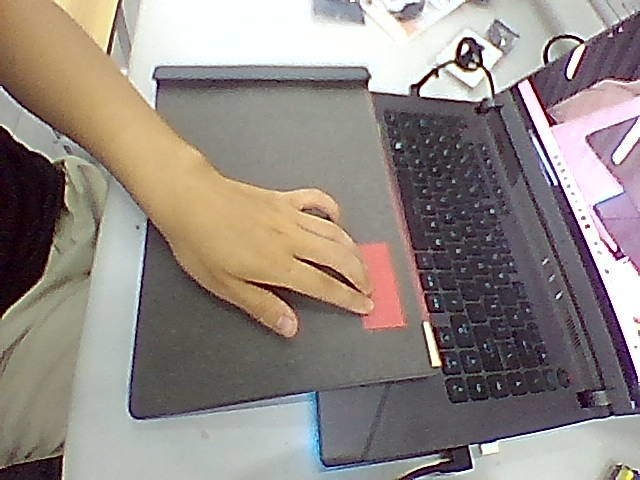card: (361, 243, 406, 330)
